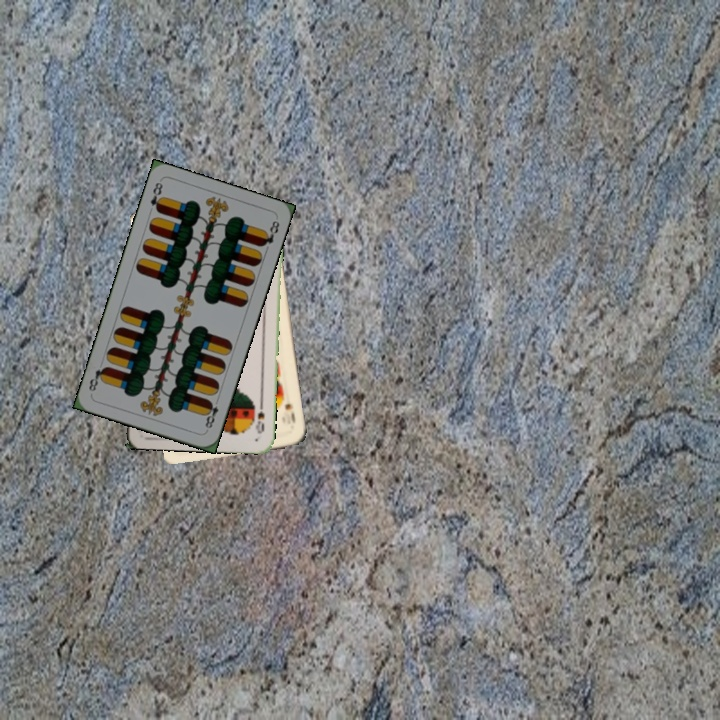E8: (201, 394, 222, 434), (146, 178, 166, 215)
S10: (281, 400, 298, 425)
SO: (251, 397, 267, 436)
